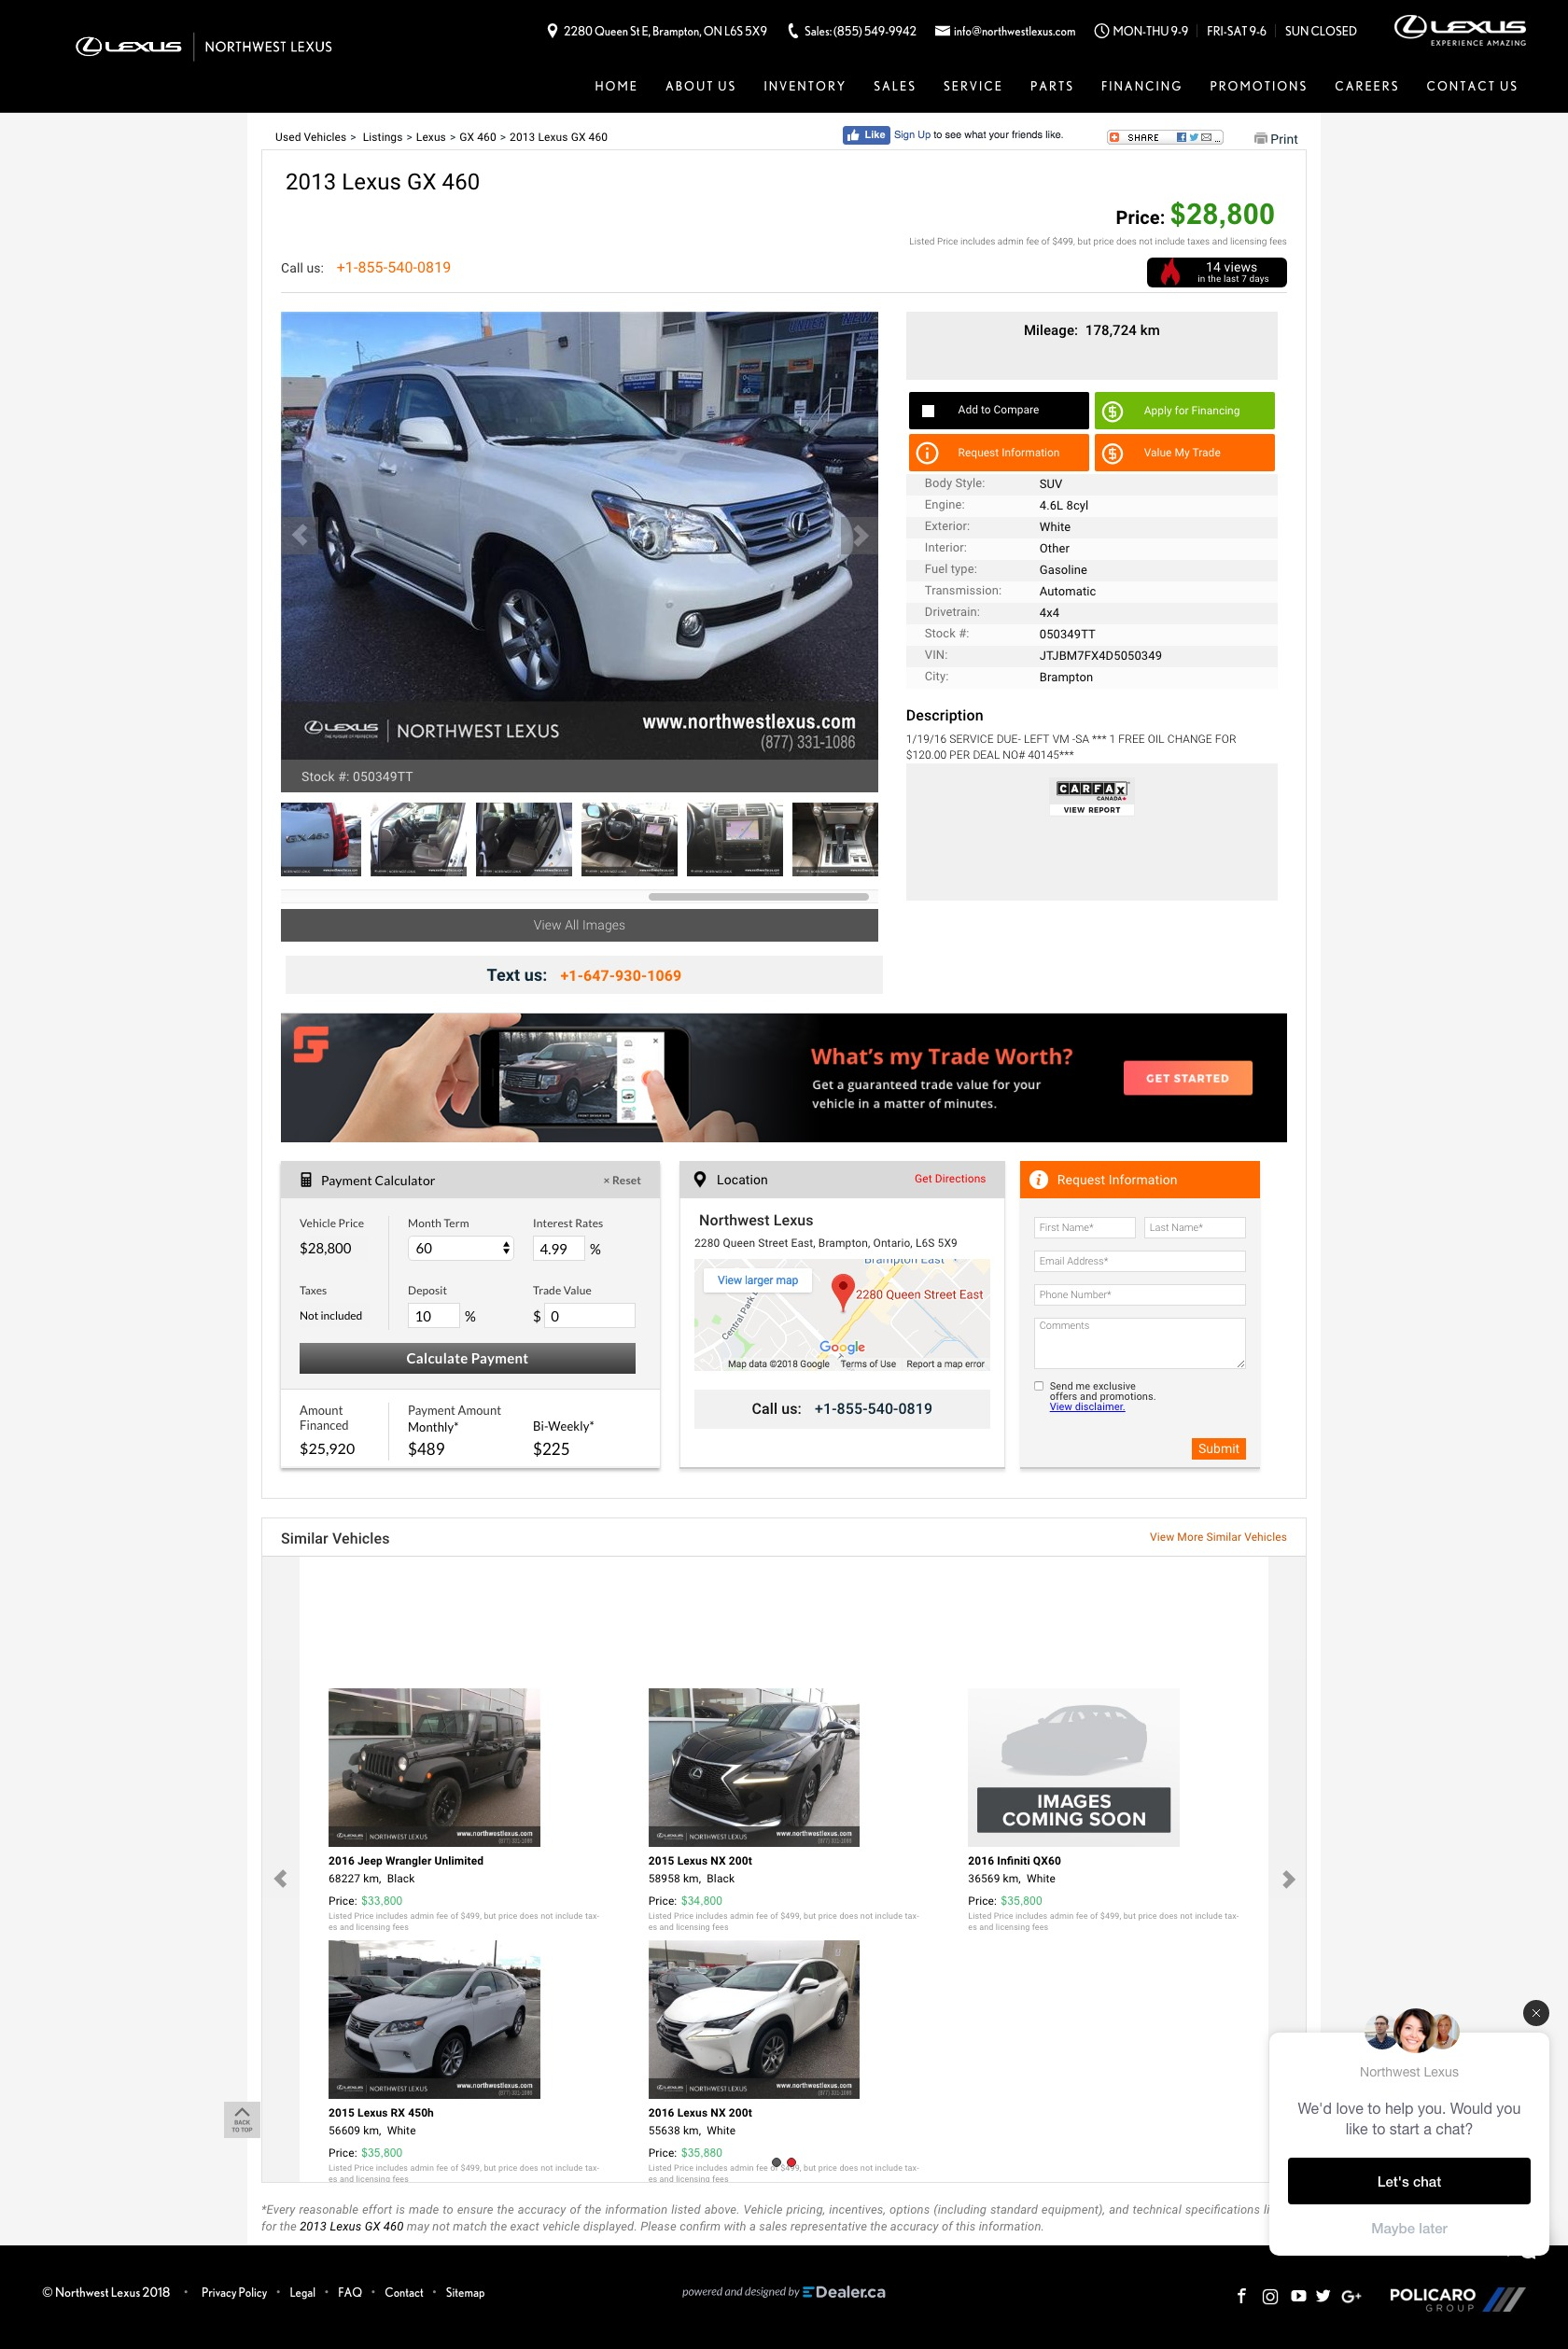car: (852, 525, 871, 547)
